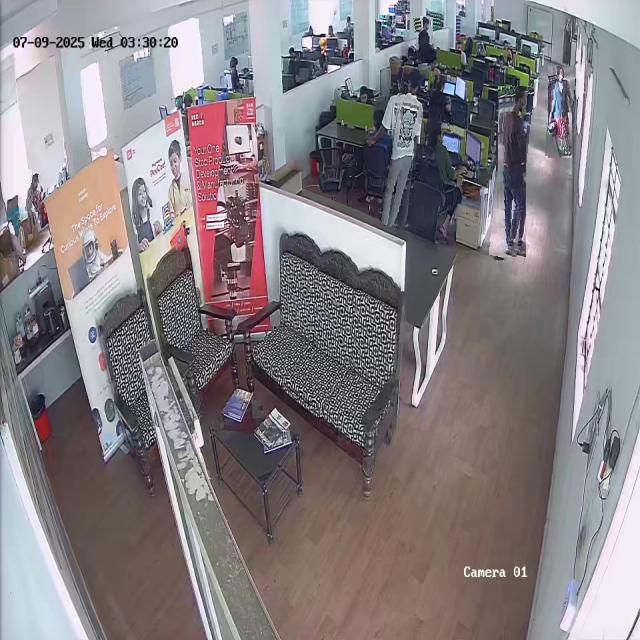person: (384, 68, 423, 228), (494, 86, 530, 257), (426, 121, 464, 207), (547, 66, 574, 158), (23, 170, 50, 213), (429, 75, 451, 115), (415, 17, 434, 63)
